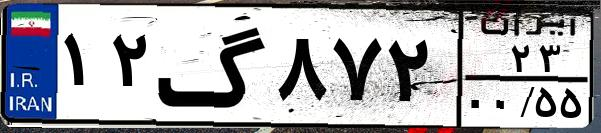0: (470, 70, 495, 125), (495, 70, 520, 125)
1: (57, 26, 110, 100)
2: (385, 28, 445, 110), (110, 28, 156, 98), (508, 27, 537, 80)
3: (537, 27, 568, 80)
5: (560, 70, 590, 125), (535, 70, 560, 125)
7: (330, 28, 385, 110)
8: (270, 28, 330, 110)
گ: (156, 12, 270, 120)
